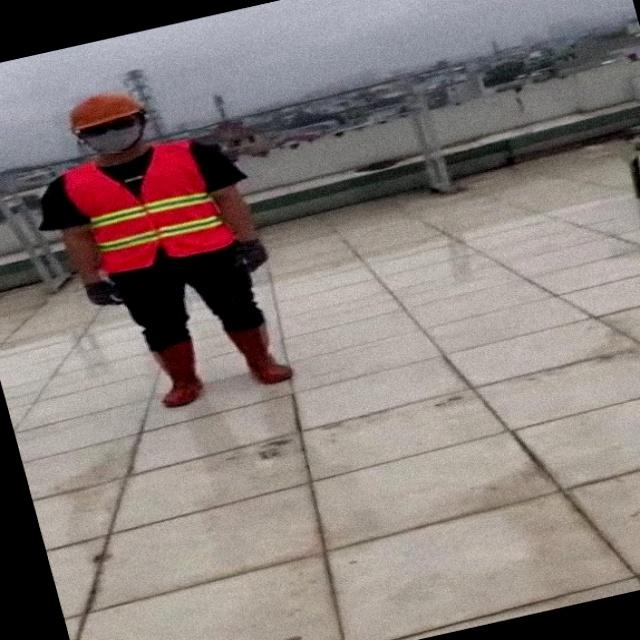helmet: (66, 84, 140, 134)
safety_vest: (63, 144, 241, 252)
